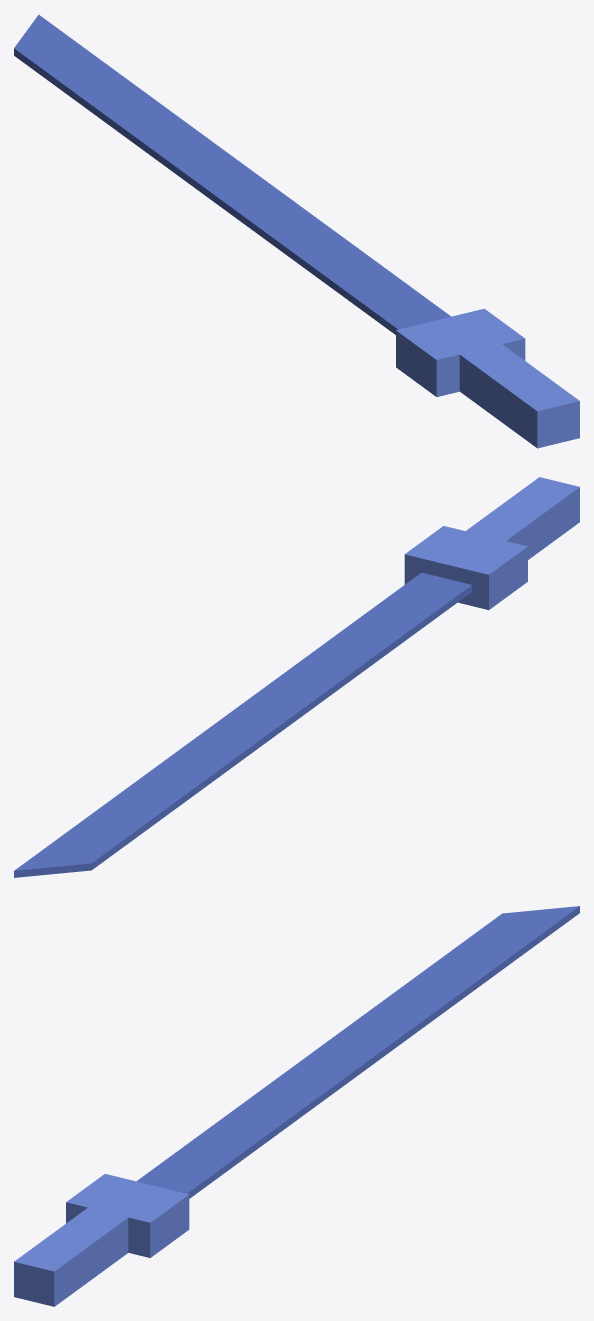
Rendered from sword.fbx.
The picture shows the model from 3 angles, top to bottom: view 1: azimuth 30°, elevation 25°; view 2: azimuth 150°, elevation 25°; view 3: azimuth 330°, elevation 25°; orthographic projection. The views are drawn at different scales.
Visible parts, largest first — view 1: Лезвие, Рукоять, Гарда; view 2: Лезвие, Гарда, Рукоять; view 3: Лезвие, Рукоять, Гарда.
Boxes of the visible parts, x1,y1,x2,y2 form: Лезвие: [14, 14, 450, 334]; Рукоять: [459, 344, 579, 448]; Гарда: [396, 308, 525, 396]; Лезвие: [14, 572, 471, 877]; Гарда: [404, 526, 527, 609]; Рукоять: [466, 477, 579, 559]; Лезвие: [136, 906, 579, 1198]; Рукоять: [14, 1207, 128, 1306]; Гарда: [66, 1174, 189, 1257].
Bounding box in the file's own units: 5 × 2 × 53.44.
